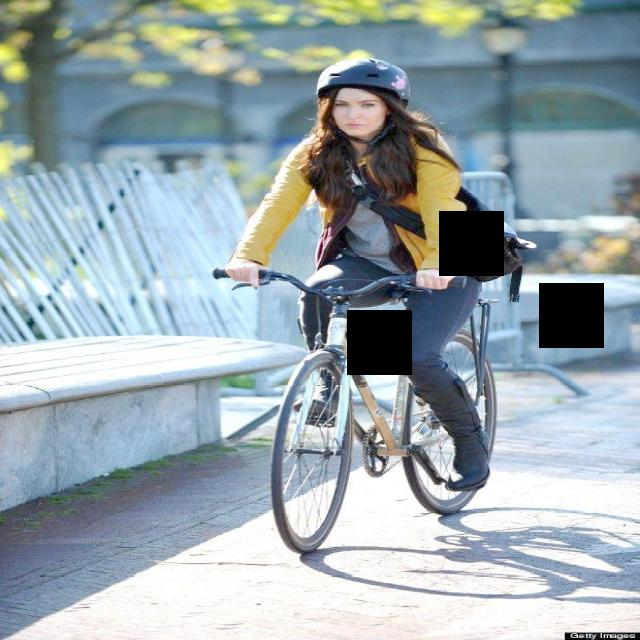Helmet: (315, 54, 410, 138)
